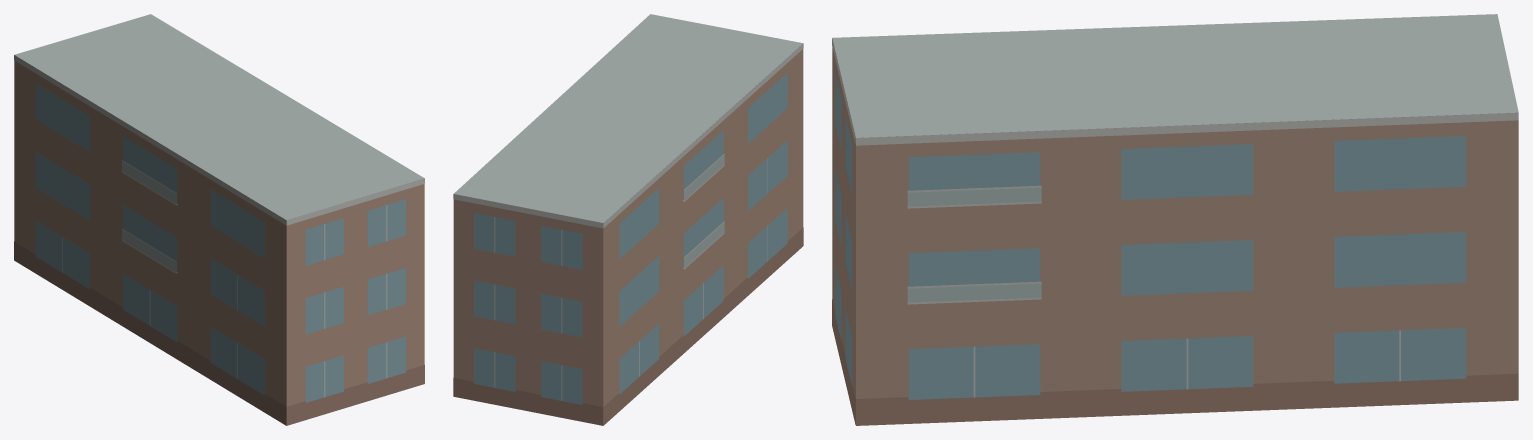
The model's file is survey-upis-32723115.glb.
3 views of the same model, side by side, from view 1: azimuth 30°, elevation 25°; view 2: azimuth 150°, elevation 25°; view 3: azimuth 270°, elevation 25° (orthographic). The views are drawn at different scales.
Parts seen in each view (by area): view 1: survey-upis-32723115.tmp; view 2: survey-upis-32723115.tmp; view 3: survey-upis-32723115.tmp.
Boxes of the visible parts, x1,y1,x2,y2 form: survey-upis-32723115.tmp: (14,14,424,425); survey-upis-32723115.tmp: (453,14,803,425); survey-upis-32723115.tmp: (832,14,1518,425).
Size of the model in its own units: 8.46 by 9.15 by 19.79.
